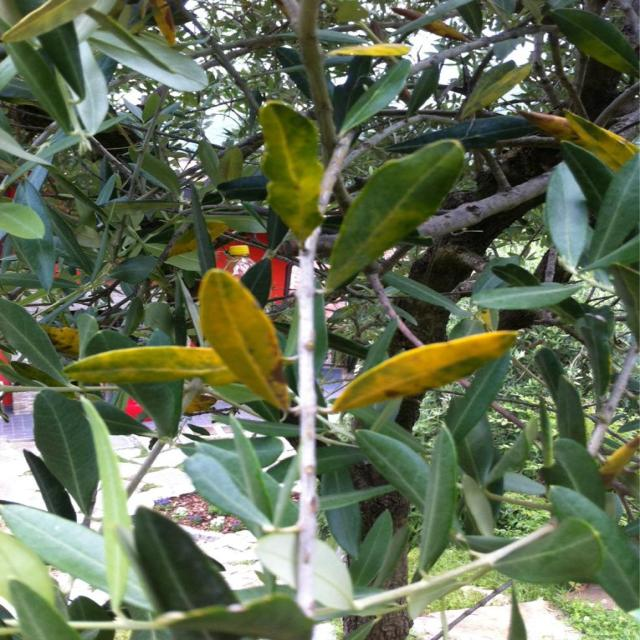Peacock Eye: (325, 141, 464, 294), (331, 331, 516, 412), (199, 269, 290, 411), (259, 101, 323, 249), (518, 111, 637, 170), (65, 346, 234, 384)
